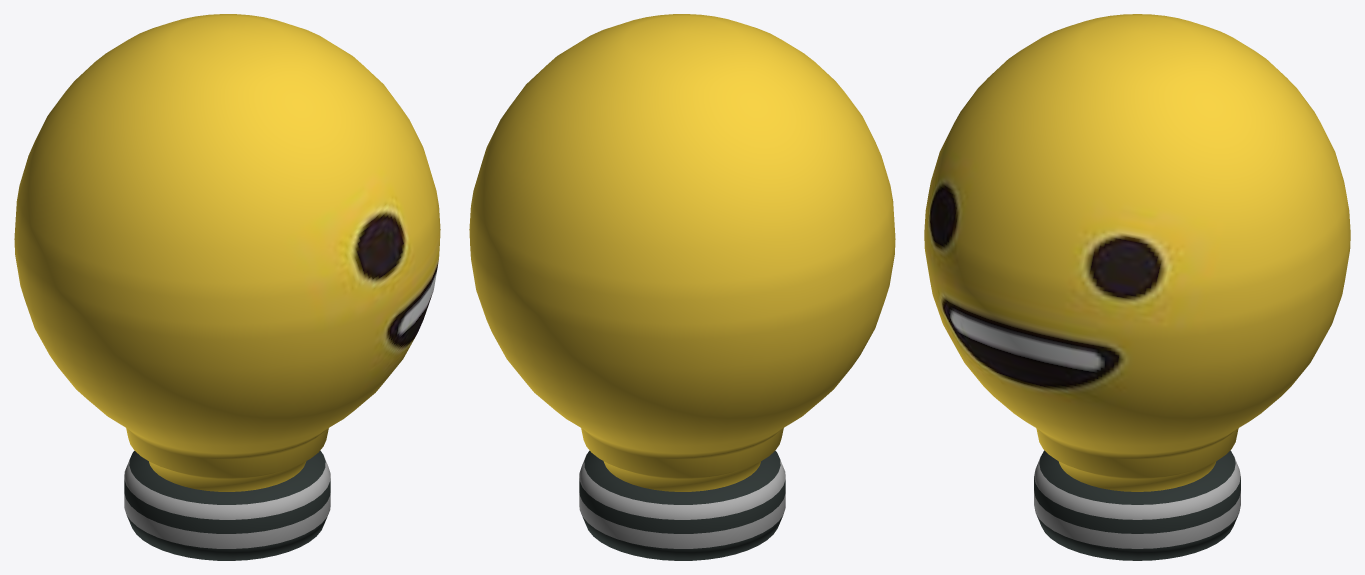
The model's file is dengpao.fbx.
3 views of the same model, side by side, from view 1: azimuth 30°, elevation 25°; view 2: azimuth 150°, elevation 25°; view 3: azimuth 270°, elevation 25° (orthographic).
Visible parts, largest first — view 1: polySurface1, polySurface2; view 2: polySurface1, polySurface2; view 3: polySurface1, polySurface2.
Boxes of the visible parts, box(x1,y1,x2,y2) form: polySurface1: box(14, 14, 440, 491); polySurface2: box(124, 450, 330, 560); polySurface1: box(469, 14, 895, 491); polySurface2: box(579, 450, 785, 560); polySurface1: box(924, 14, 1350, 491); polySurface2: box(1034, 450, 1240, 560).
Bounding box in the file's own units: 1.47 × 1.47 × 2.
3 materials, 1 textured.
